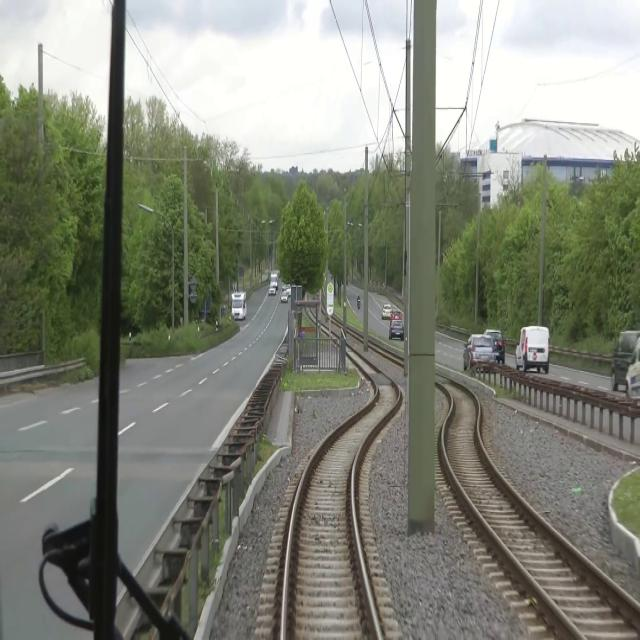rail-track: (436, 375, 640, 639), (285, 345, 398, 639), (306, 308, 316, 321)
